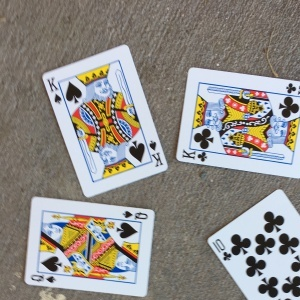card: (42, 44, 169, 195), (24, 196, 157, 297)
